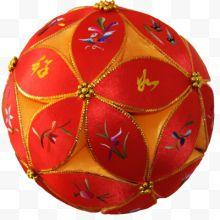xiuqiu: (1, 1, 220, 220)
